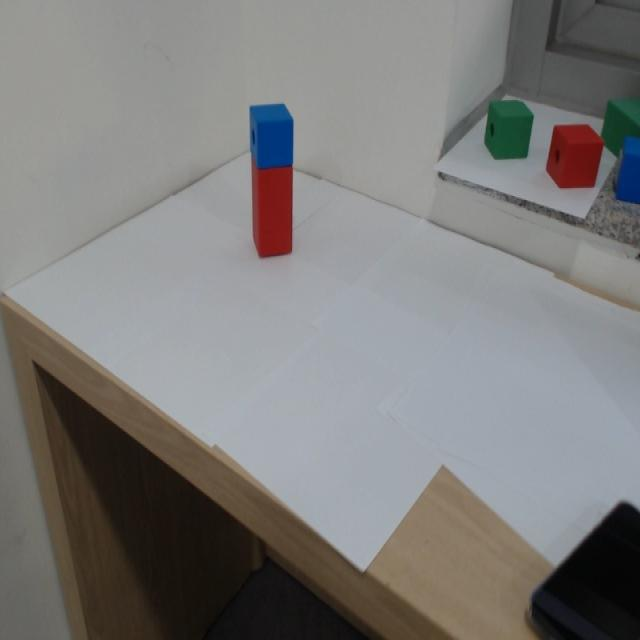cube: (243, 101, 299, 168)
